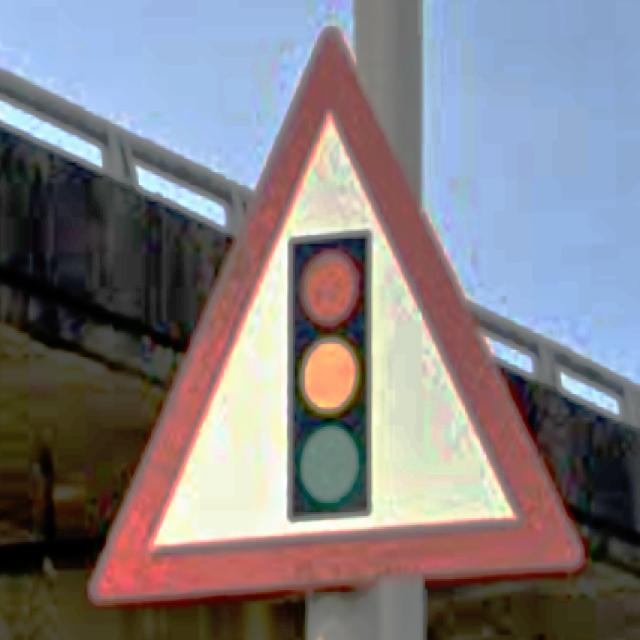signalahead: (88, 32, 583, 607)
